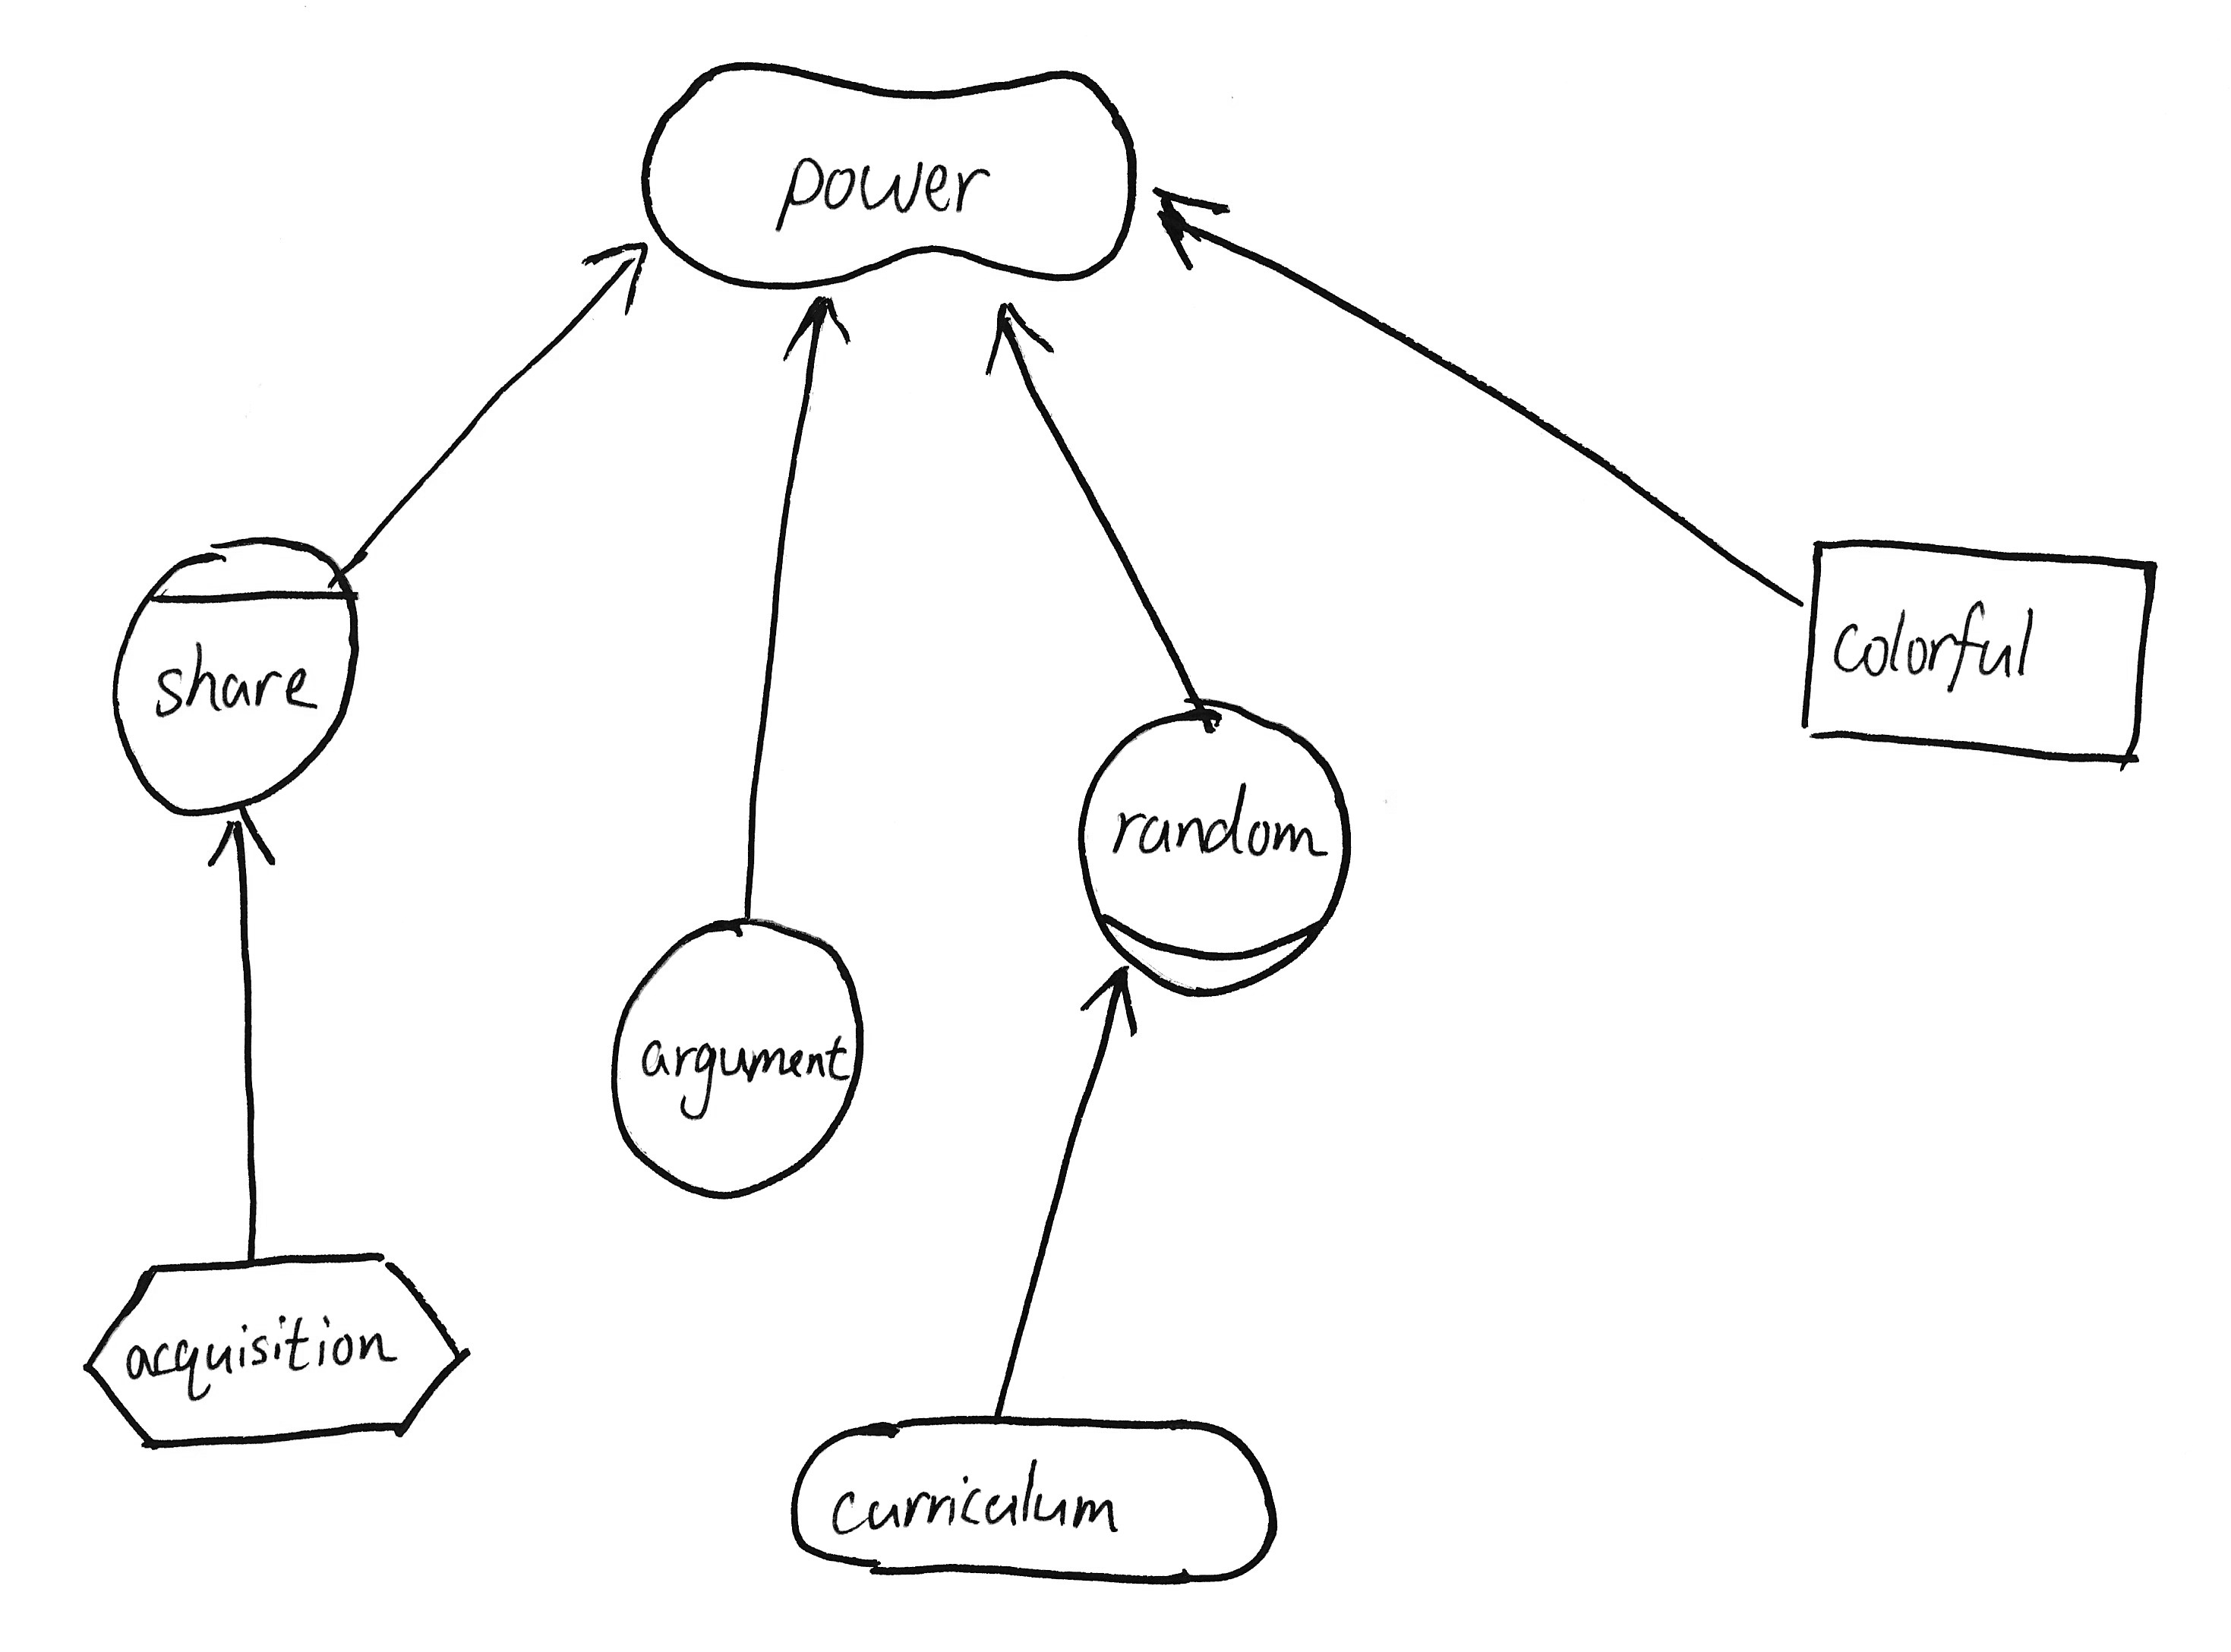actor: (593, 892, 878, 1211)
agent: (94, 515, 378, 835)
arrow: (1140, 172, 1244, 285), (963, 286, 1069, 387), (1060, 958, 1154, 1052), (572, 229, 656, 330), (201, 802, 290, 888), (774, 290, 866, 373)
goal: (775, 1388, 1303, 1600)
quality: (628, 31, 1148, 309)
resource: (1782, 521, 2182, 786)
role: (1062, 687, 1371, 1012)
task: (69, 1236, 487, 1470)
